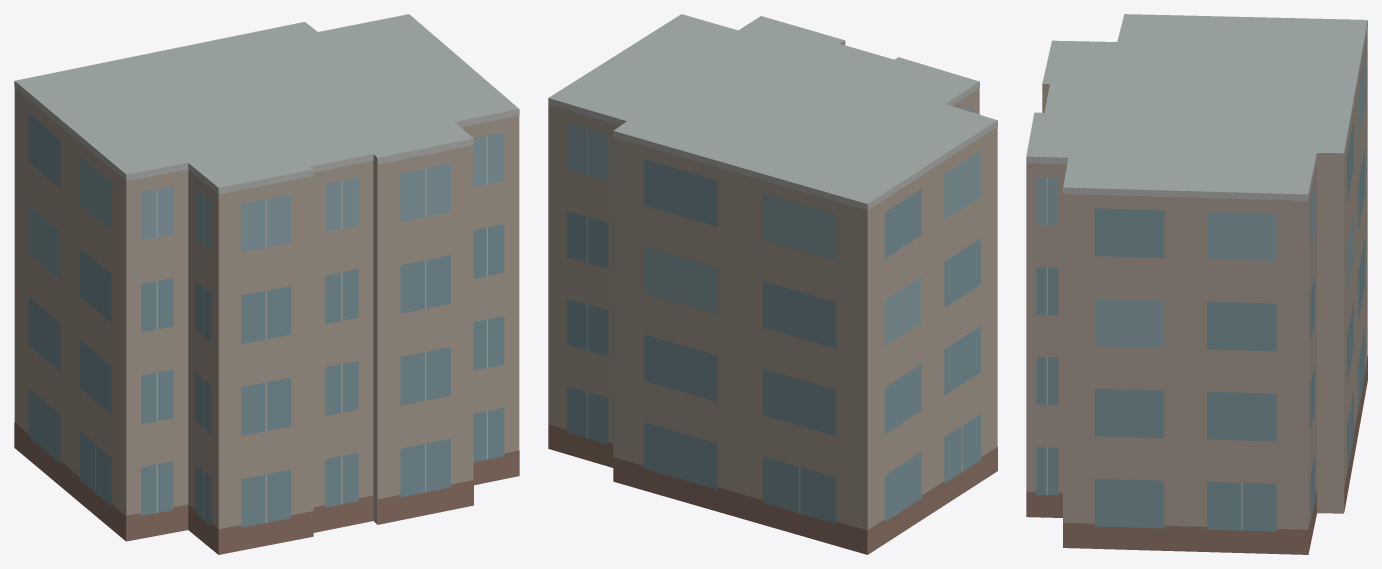
File: survey-upis-32963311.glb
3 views of the same model, side by side, from view 1: azimuth 30°, elevation 25°; view 2: azimuth 150°, elevation 25°; view 3: azimuth 270°, elevation 25° (orthographic). The views are drawn at different scales.
Visible parts, largest first — view 1: survey-upis-32963311.tmp; view 2: survey-upis-32963311.tmp; view 3: survey-upis-32963311.tmp.
Boxes of the visible parts, bbox=[...] form: survey-upis-32963311.tmp: bbox=[14, 14, 519, 554]; survey-upis-32963311.tmp: bbox=[548, 14, 997, 554]; survey-upis-32963311.tmp: bbox=[1026, 14, 1367, 554].
Size of the model in its own units: 14.62 by 13.6 by 11.7.
